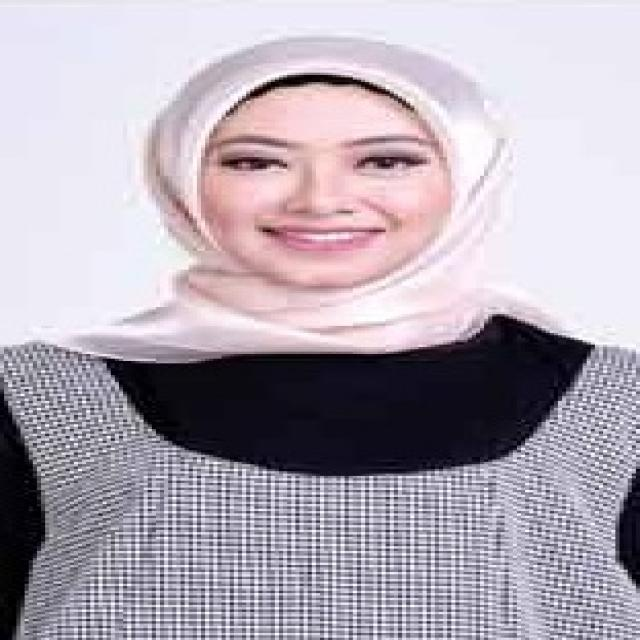head: (144, 23, 495, 295)
